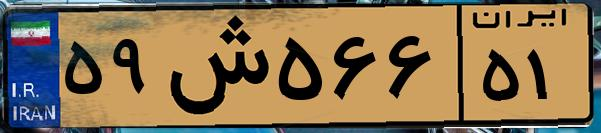1: (525, 38, 570, 115)
5: (270, 28, 330, 110), (57, 26, 110, 100), (475, 38, 525, 113)
6: (385, 28, 445, 110), (330, 28, 385, 110)
9: (110, 28, 158, 98)
ش: (158, 12, 270, 120)
